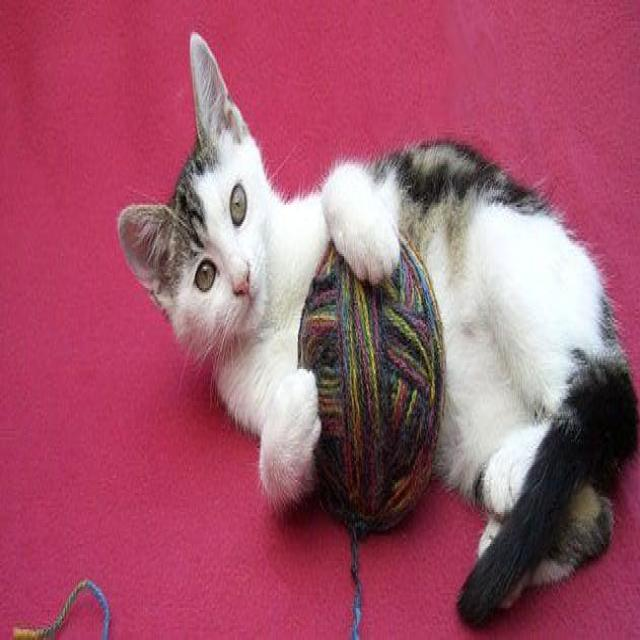Cat: (109, 20, 280, 371)
